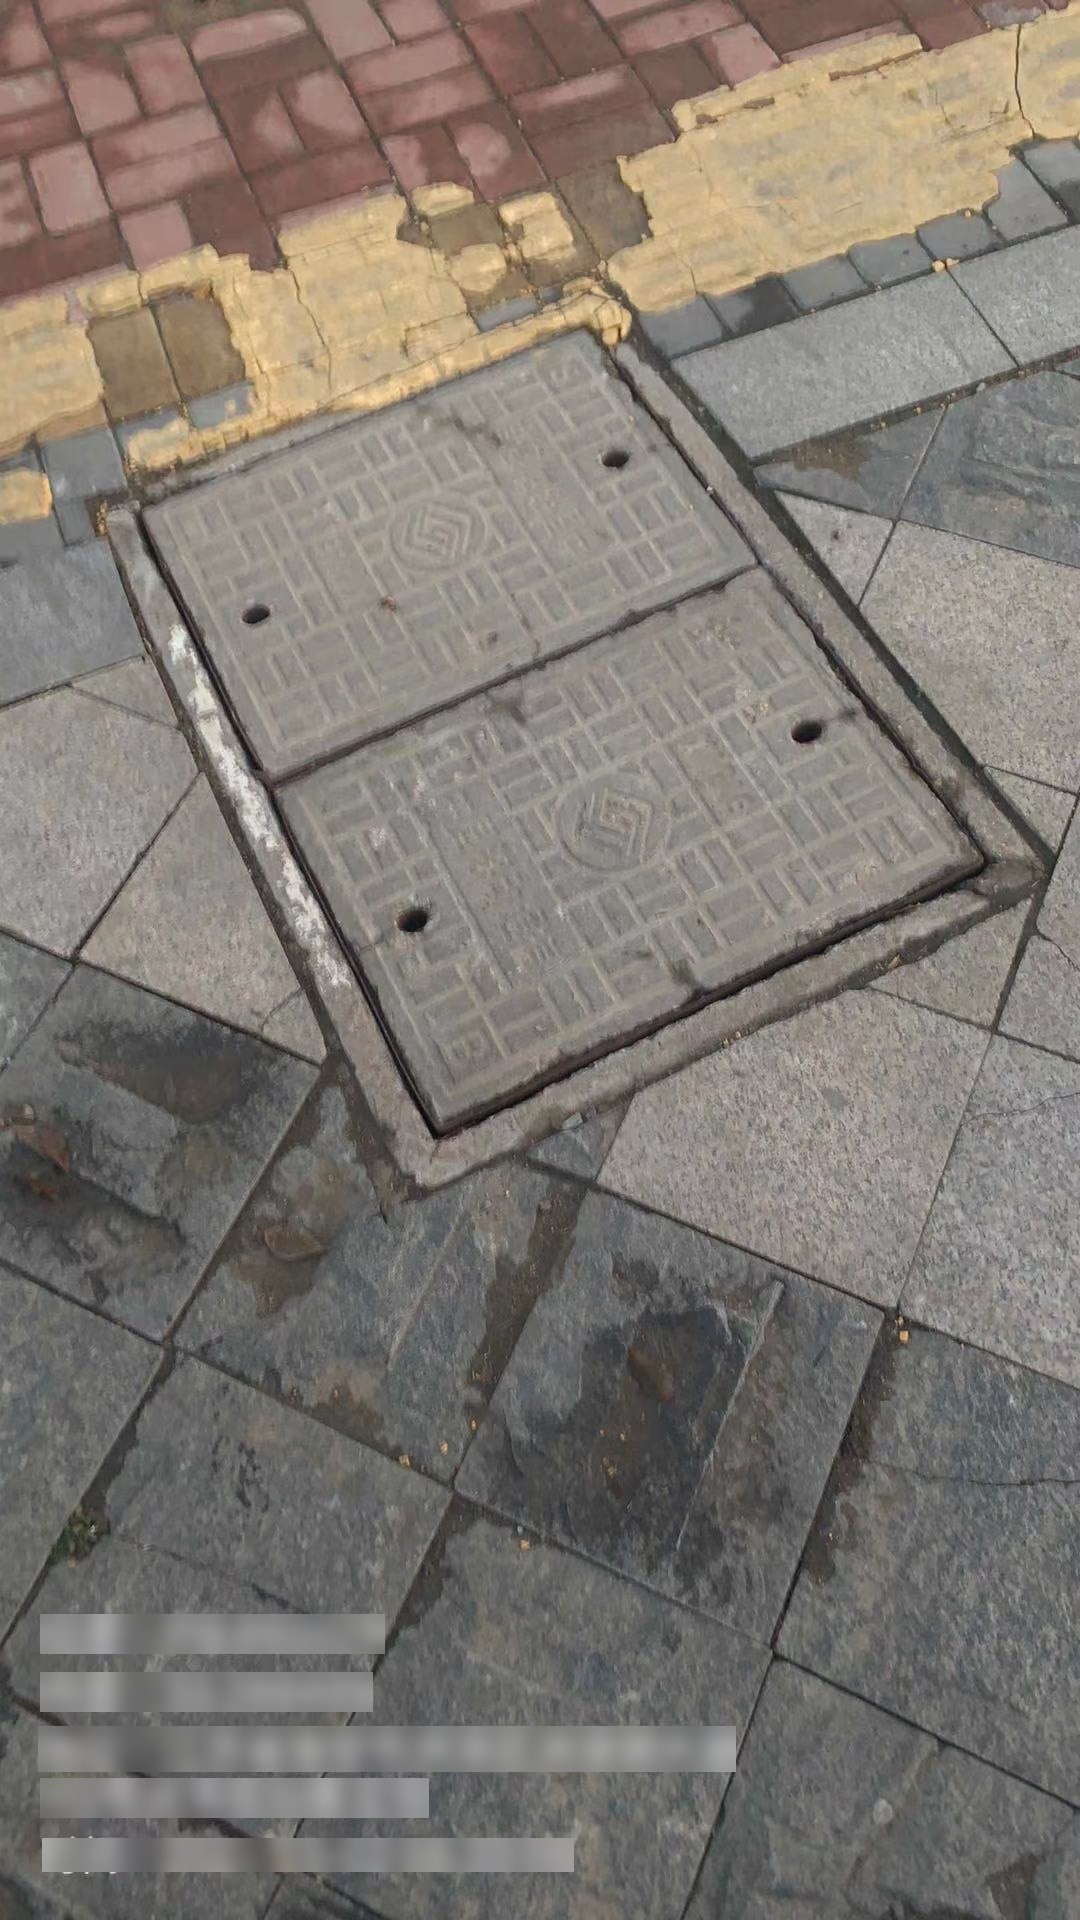good: (98, 295, 1058, 1196)
